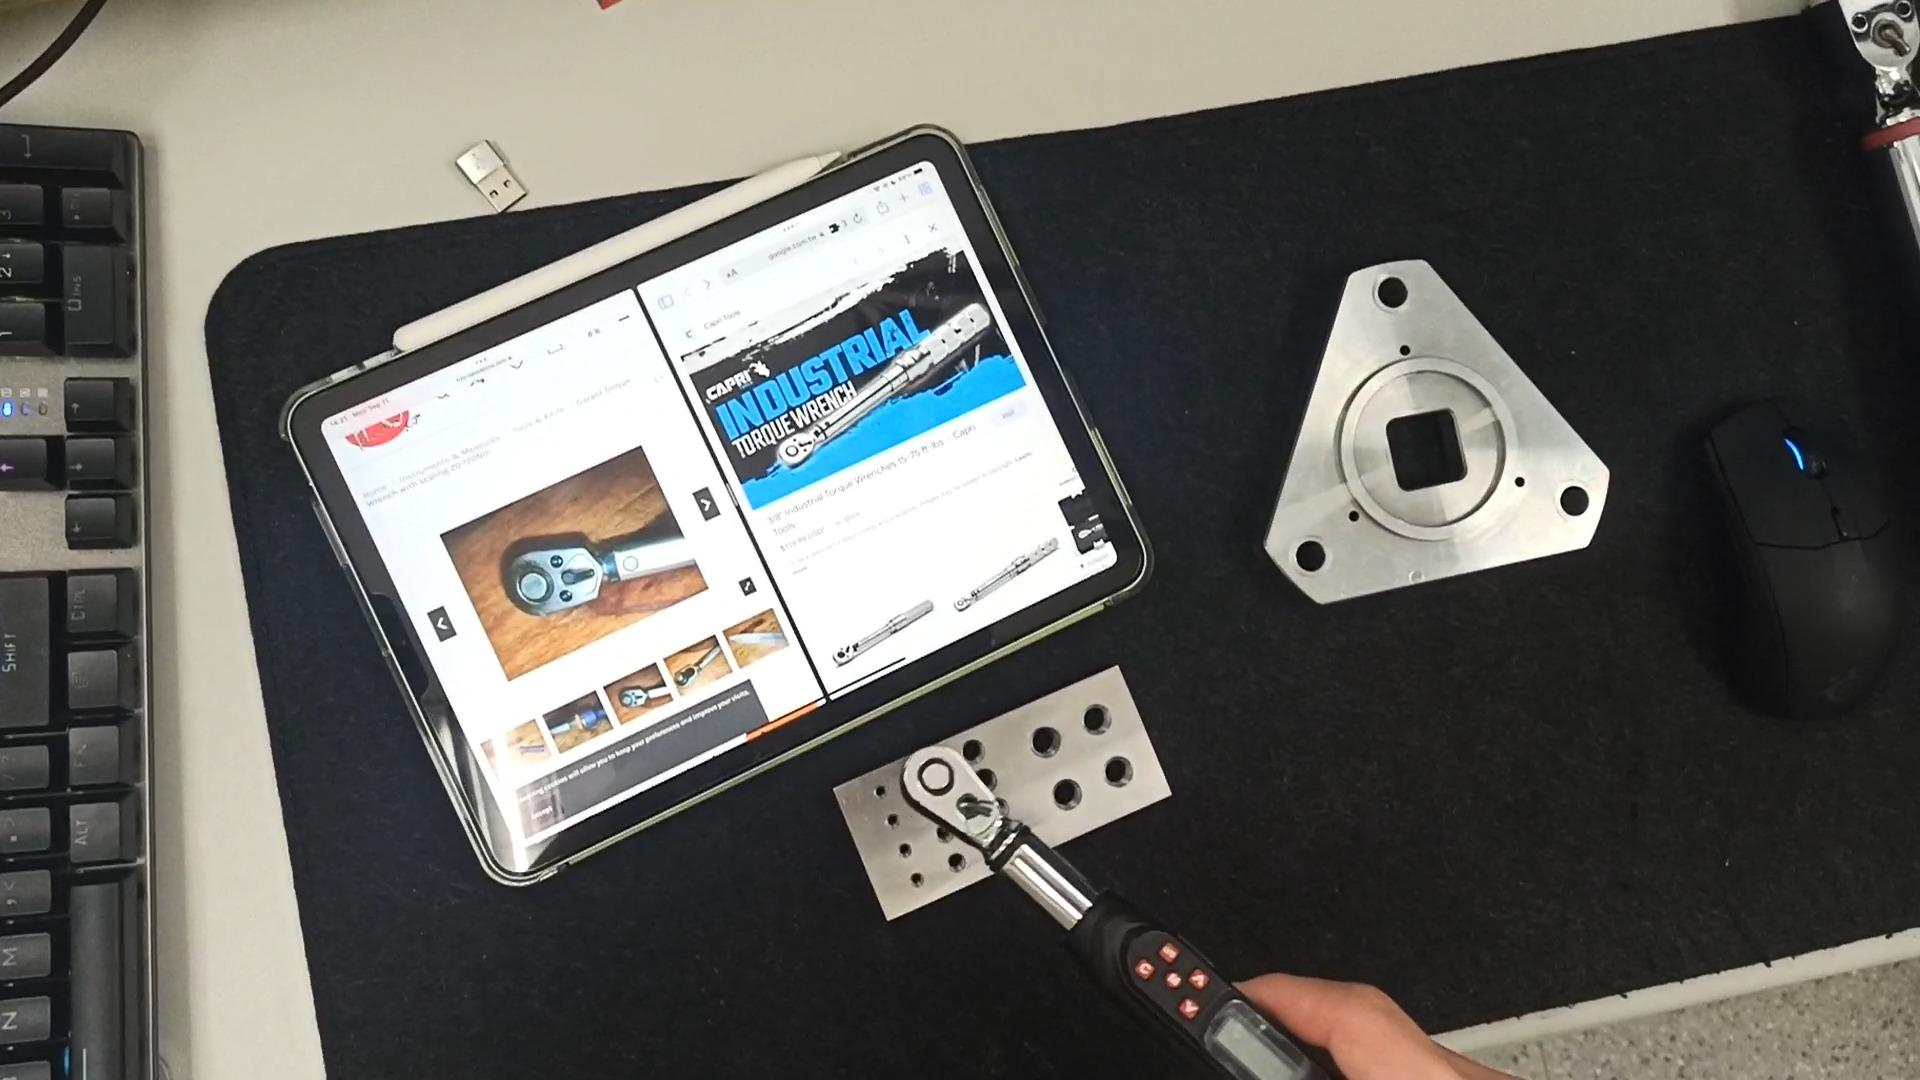Tool: (913, 750, 998, 840), (505, 550, 601, 615), (777, 430, 815, 464)
hole: (1360, 269, 1422, 316), (1080, 753, 1145, 795), (1271, 537, 1333, 580), (1027, 777, 1095, 815), (1535, 481, 1596, 524), (1059, 704, 1124, 744), (1006, 723, 1067, 764), (957, 736, 988, 770), (878, 810, 907, 835), (931, 857, 965, 876), (884, 843, 916, 861), (897, 873, 930, 891), (869, 782, 894, 803), (932, 827, 956, 848)
